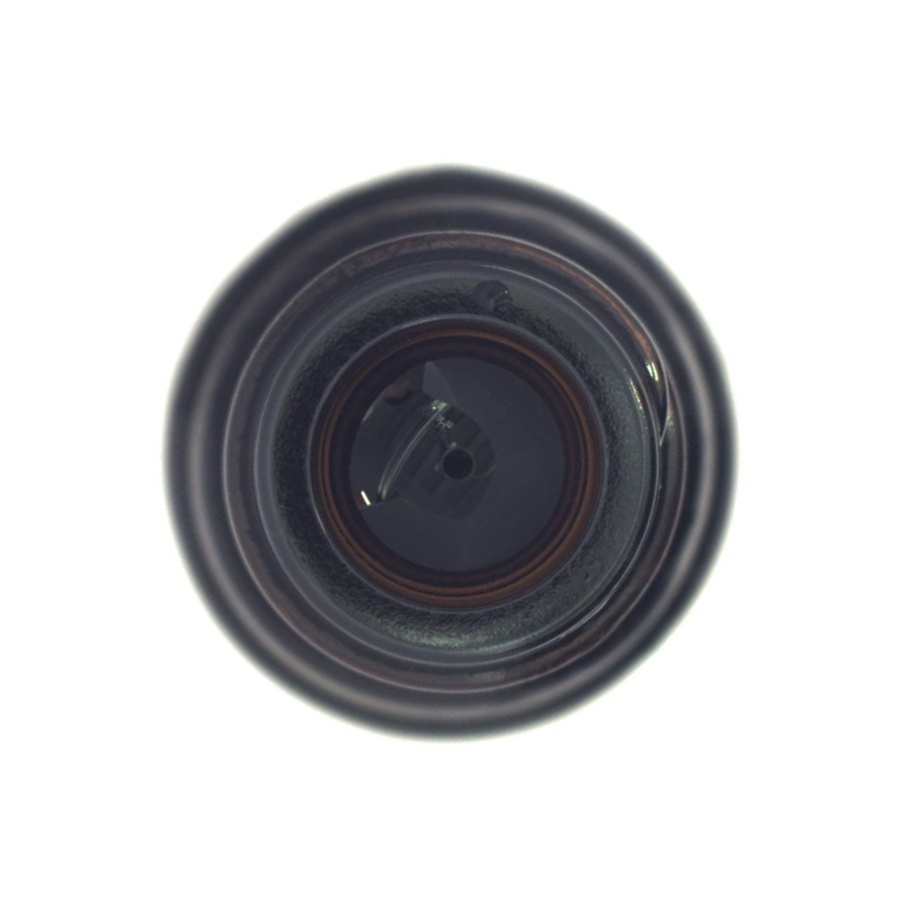bad-contamination: (40, 46, 860, 850)
